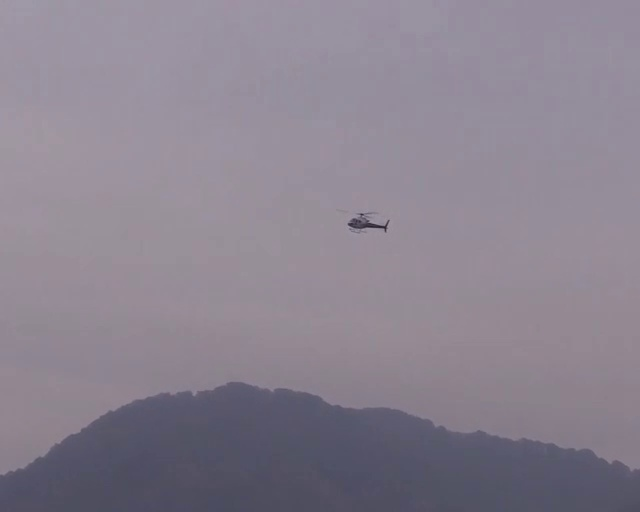HELICOPTER: (336, 209, 390, 234)
